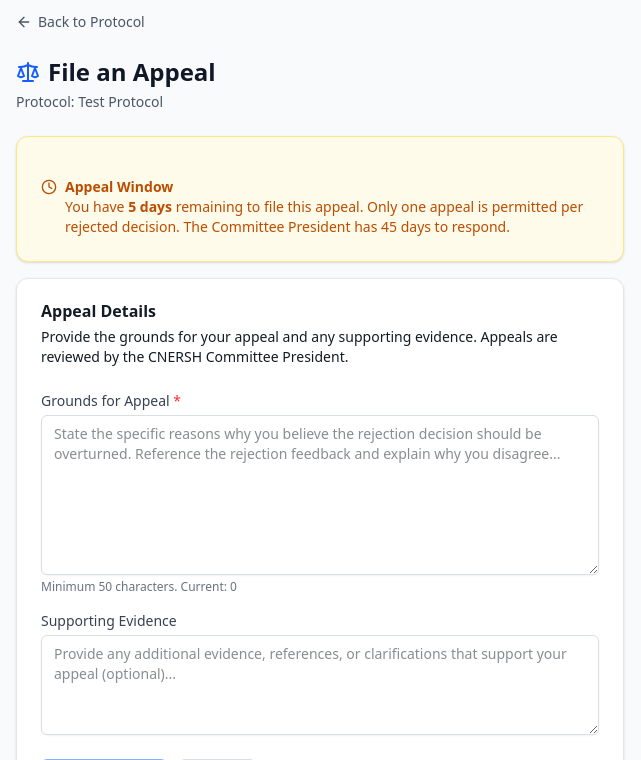
Test: AppealClient › updates character counter as user types
Type "hello" into the text box with placeholder "State the specific reasons" at (320, 495), box [41,415,599,575]
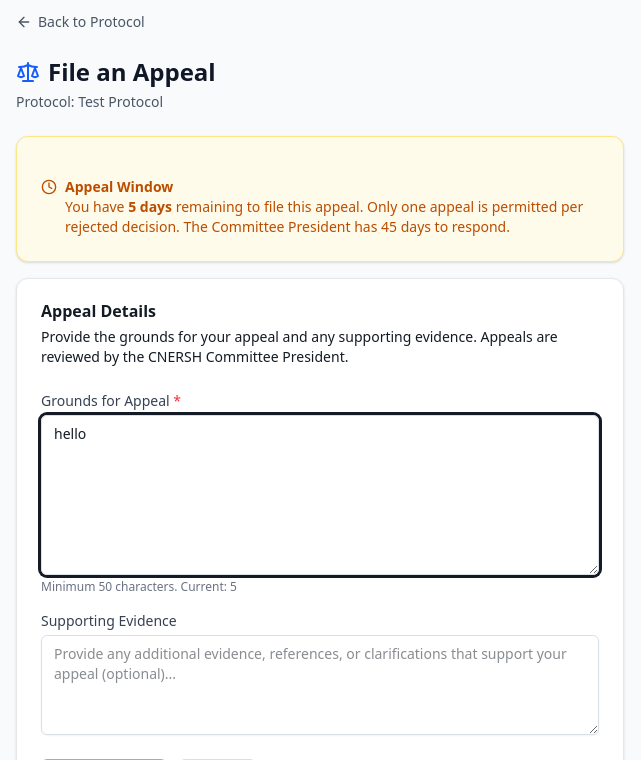
Expected: the text "Minimum 50 characters. Current: 5" is shown, [41,578,237,595]
